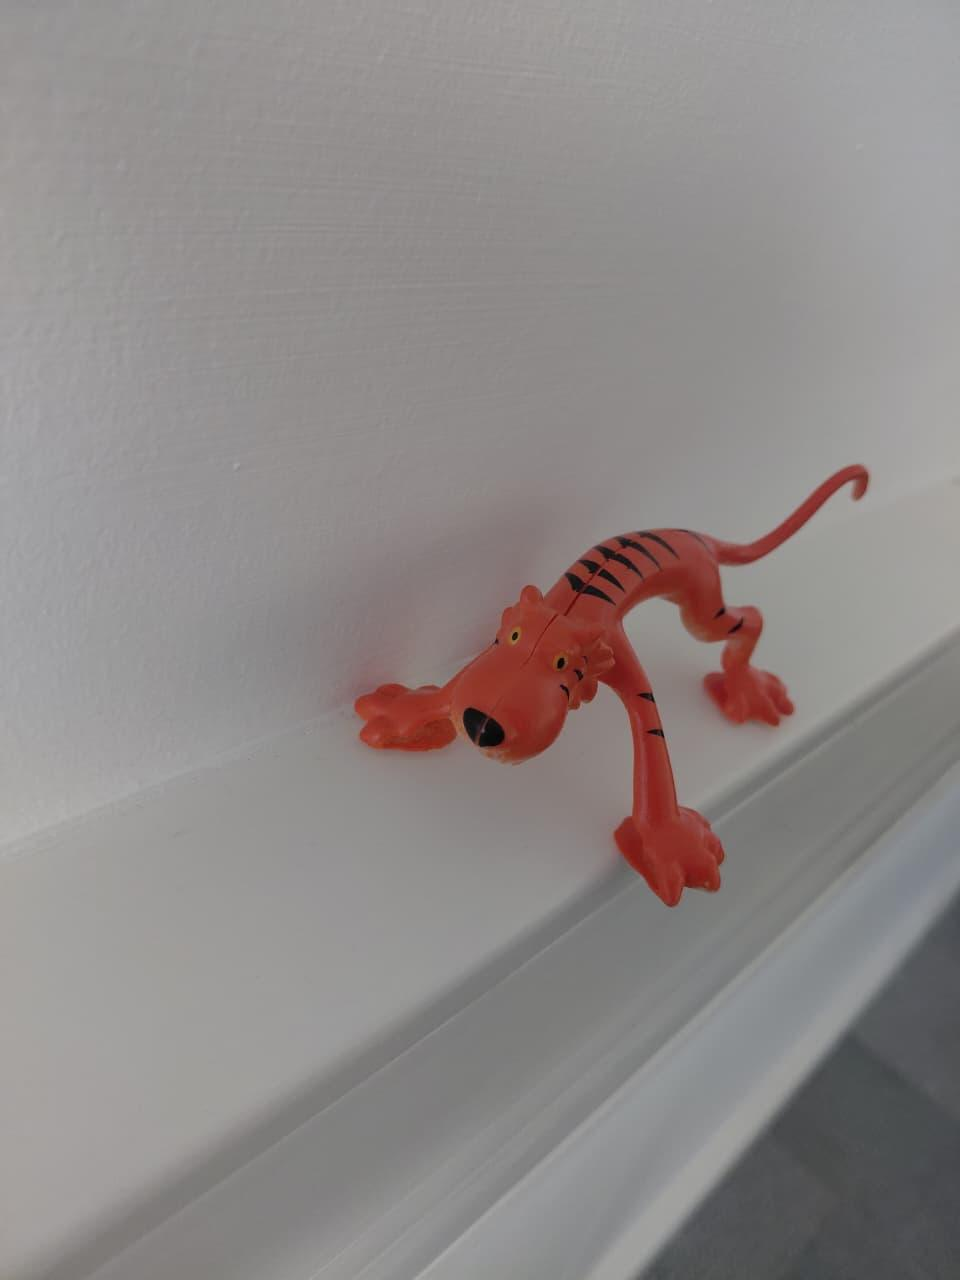tiger: (328, 445, 958, 921)
